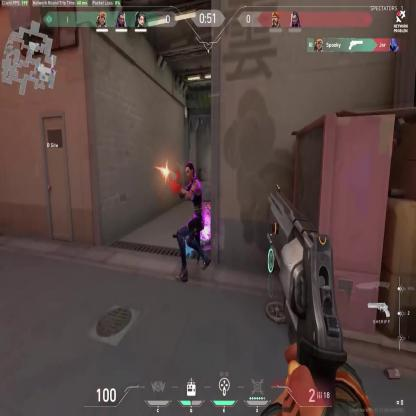enemy: (175, 160, 211, 288)
enemy_head: (184, 161, 194, 182)
